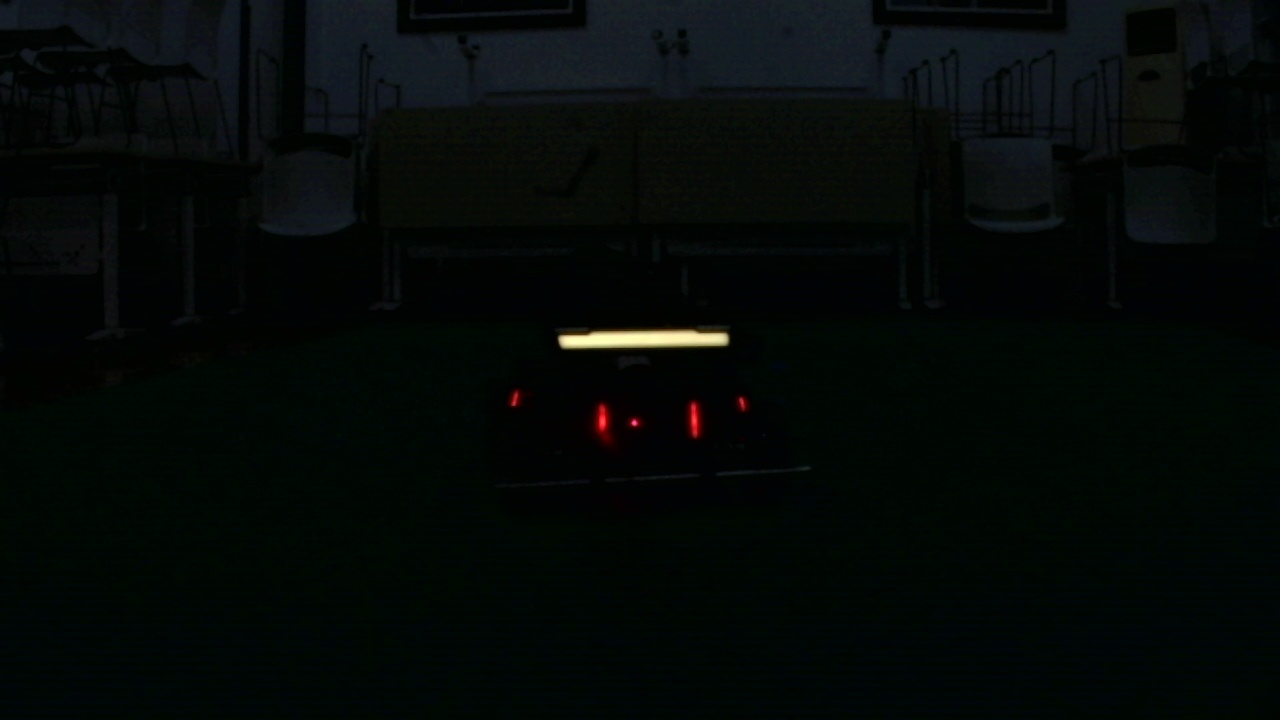lamp: (683, 402, 702, 441), (594, 399, 609, 438)
pair1: (598, 401, 700, 437)
